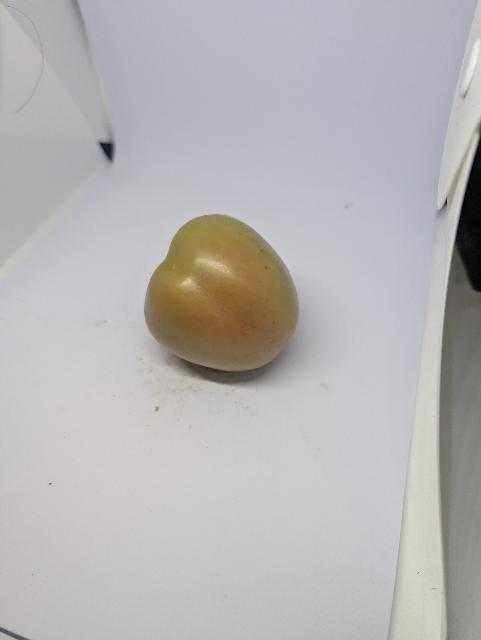breaker: (145, 215, 299, 371)
